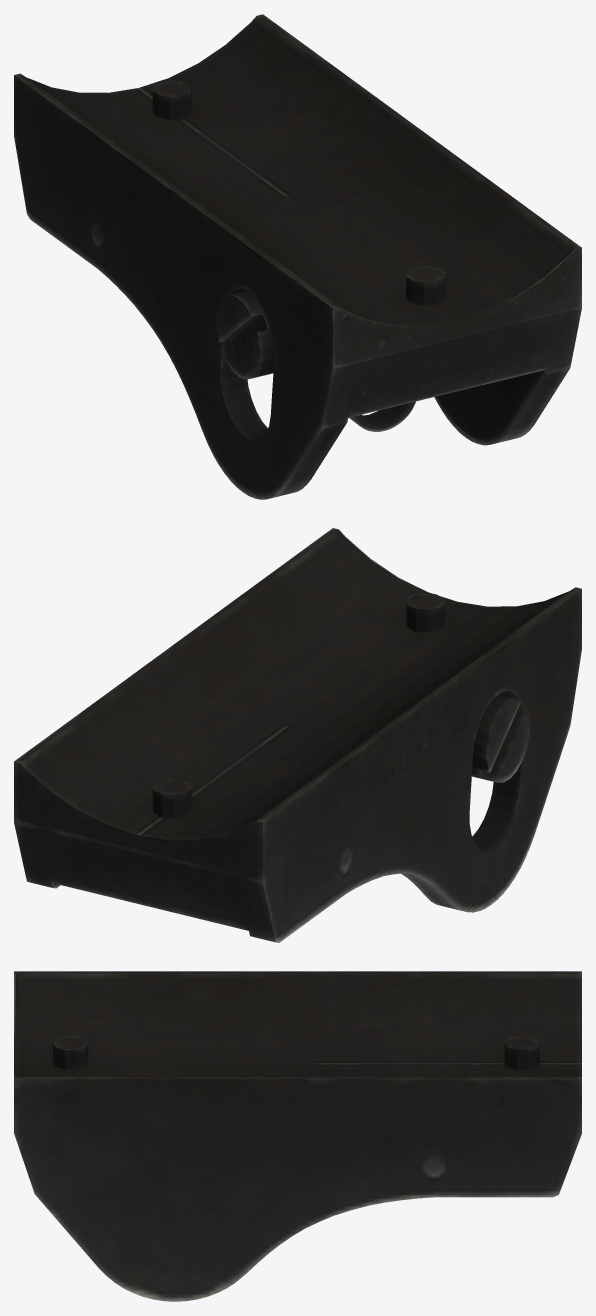
3 renders of one model, top to bottom at view 1: azimuth 30°, elevation 25°; view 2: azimuth 150°, elevation 25°; view 3: azimuth 270°, elevation 25°, orthographic. The views are drawn at different scales.
Parts seen in each view (by area): view 1: TW_625ebcef6f53af4aa66b44dc_PZ_Import; view 2: TW_625ebcef6f53af4aa66b44dc_PZ_Import; view 3: TW_625ebcef6f53af4aa66b44dc_PZ_Import.
Part boxes in pixels (box(x1,y1,x2,y2)): TW_625ebcef6f53af4aa66b44dc_PZ_Import: box(14, 14, 581, 499); TW_625ebcef6f53af4aa66b44dc_PZ_Import: box(14, 528, 581, 942); TW_625ebcef6f53af4aa66b44dc_PZ_Import: box(14, 971, 581, 1301).
Size of the model in its own units: 0.0152 by 0.0322 by 0.0139.
1 material, 1 textured.
